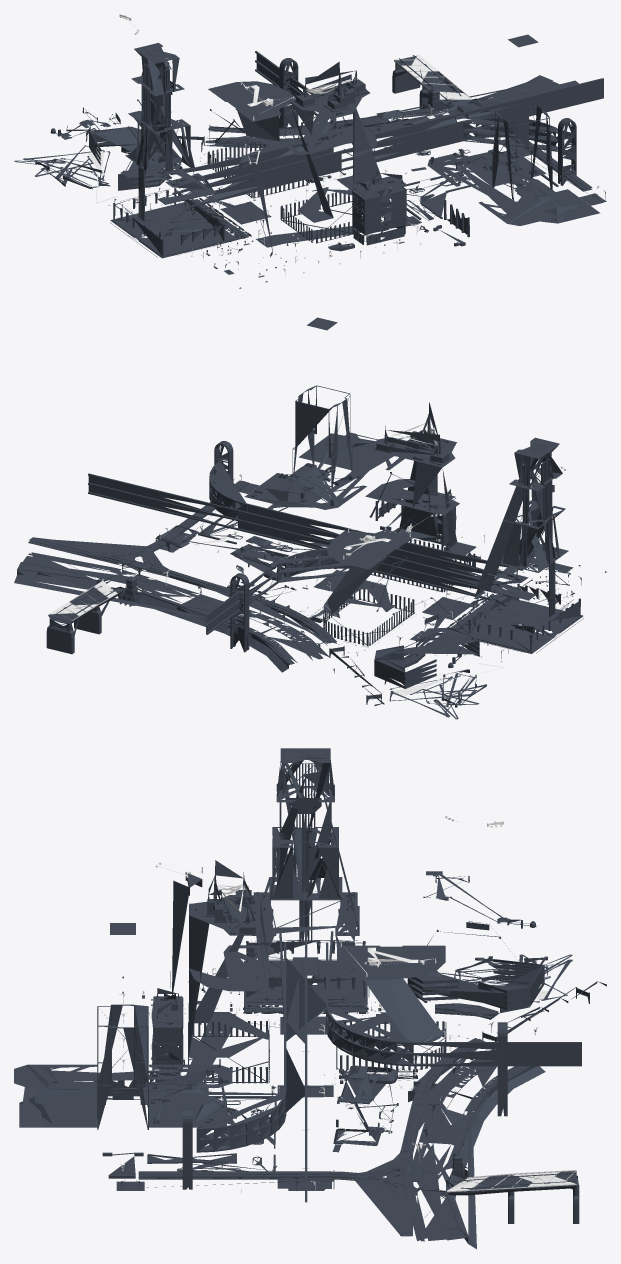
Rendered from street_island1_05.glb.
3 renders of one model, top to bottom at view 1: azimuth 30°, elevation 25°; view 2: azimuth 150°, elevation 25°; view 3: azimuth 270°, elevation 25°, orthographic. The views are drawn at different scales.
Visible parts, largest first — view 1: seg_628, seg_1109, seg_658, seg_1358, seg_600, seg_657, seg_1356, seg_1458, seg_1324, seg_1339, seg_1482, seg_1277 (+32 smaller); view 2: seg_1109, seg_691, seg_628, seg_658, seg_657, seg_1358, seg_600, seg_1277, seg_1356, seg_1339, seg_1458, seg_684 (+19 smaller); view 3: seg_628, seg_1109, seg_658, seg_691, seg_657, seg_1277, seg_1324, seg_1353, seg_1458, seg_1364, seg_600, seg_1358 (+28 smaller).
Boxes of the visible parts, box(x1,y1,x2,y2) form: seg_628: box(427, 149, 600, 225); seg_1109: box(120, 42, 219, 204); seg_658: box(281, 88, 390, 222); seg_1358: box(170, 143, 341, 207); seg_600: box(110, 199, 248, 258); seg_657: box(208, 81, 295, 159); seg_1356: box(341, 114, 463, 170); seg_1458: box(492, 102, 552, 200); seg_1324: box(138, 61, 172, 221); seg_1339: box(455, 78, 603, 127); seg_1482: box(186, 175, 421, 247); seg_1277: box(89, 126, 168, 190); seg_1109: box(474, 437, 573, 600); seg_691: box(14, 552, 258, 633); seg_628: box(244, 432, 406, 509); seg_658: box(365, 438, 476, 559); seg_657: box(323, 529, 413, 617); seg_1358: box(375, 542, 523, 603); seg_600: box(451, 594, 582, 653); seg_1277: box(374, 627, 479, 688); seg_1356: box(237, 503, 364, 549); seg_1339: box(88, 473, 237, 529); seg_1458: box(292, 385, 352, 488); seg_684: box(224, 613, 329, 672); seg_628: box(14, 1064, 232, 1127); seg_1109: box(252, 748, 359, 953); seg_658: box(188, 895, 268, 1057); seg_691: box(413, 1106, 483, 1249); seg_657: box(337, 945, 445, 1045); seg_1277: box(407, 959, 544, 1010); seg_1324: box(277, 763, 331, 941); seg_1353: box(413, 1042, 581, 1066); seg_1458: box(97, 1004, 148, 1129); seg_1364: box(196, 1091, 286, 1152); seg_600: box(244, 960, 367, 1012); seg_1358: box(279, 931, 333, 1043).
Bounding box in the file's own units: 488 × 196 × 422.
